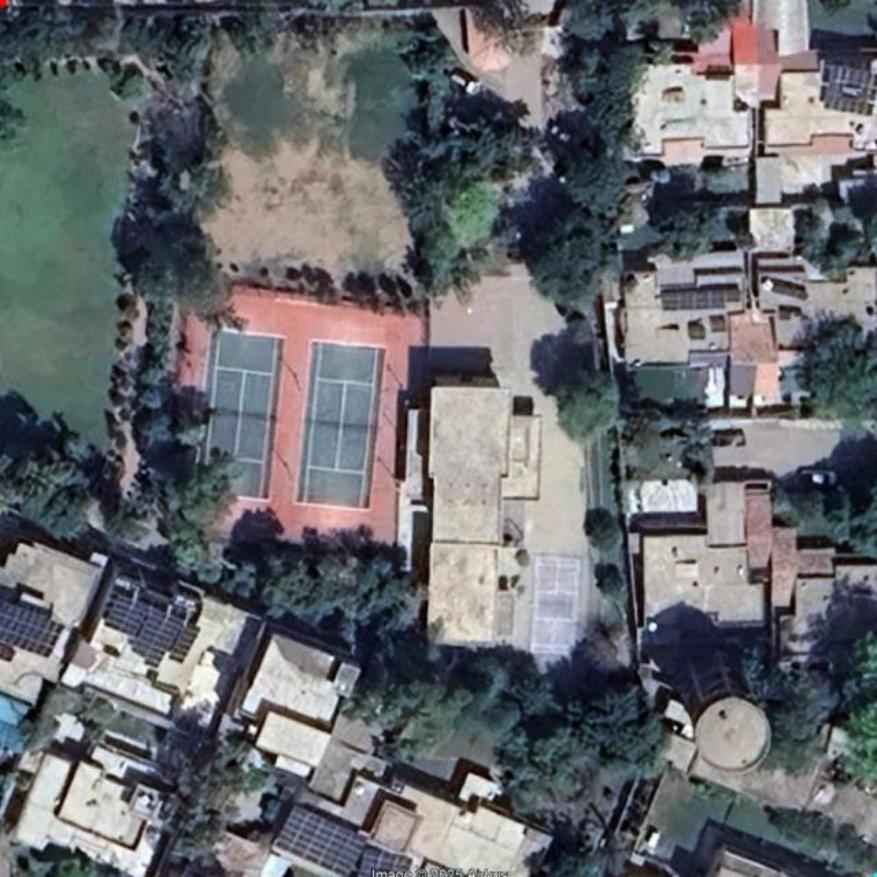Solarpanel: (274, 802, 368, 874), (105, 592, 184, 653), (0, 600, 65, 658), (827, 66, 876, 113), (662, 286, 725, 311), (355, 850, 412, 876)
